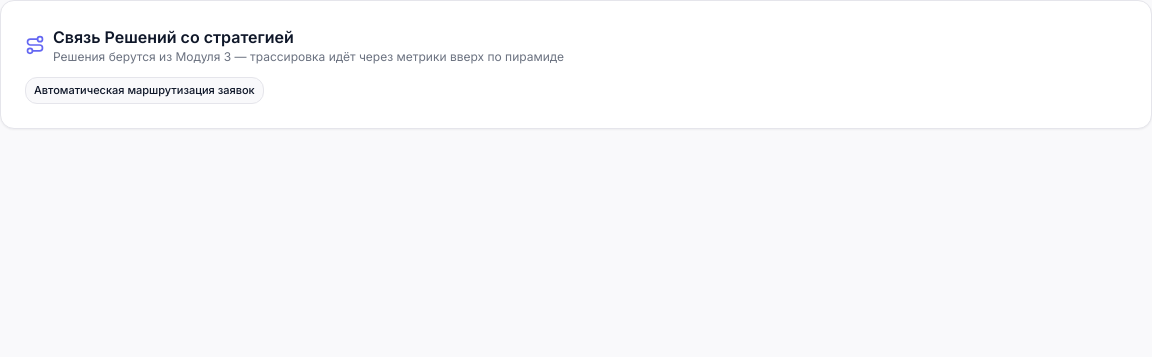
Test: SolutionTrace › работает на неполной пирамиде: показывает статусы, а не пустой экран
Click the button with test id "trace-solution-kr-0:0": (144, 90) [25, 77, 264, 104]
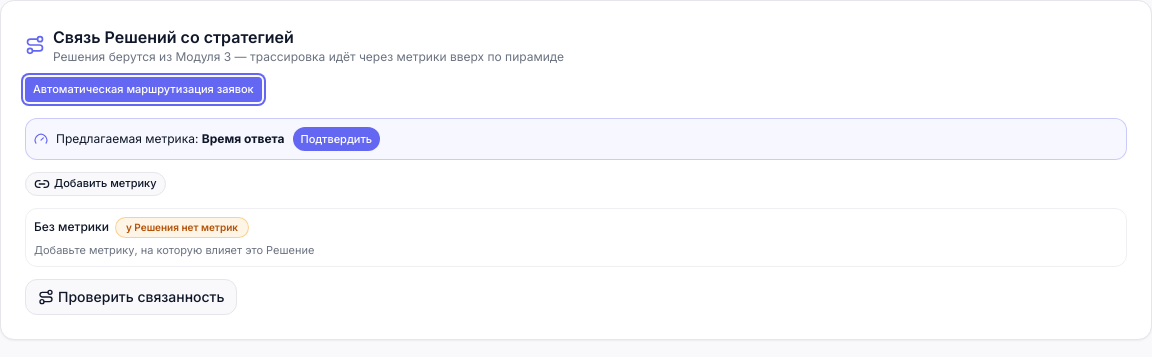
Expected: the list item with test id "trace-chain-none" shows "нет метрик", [126, 220, 238, 232]
